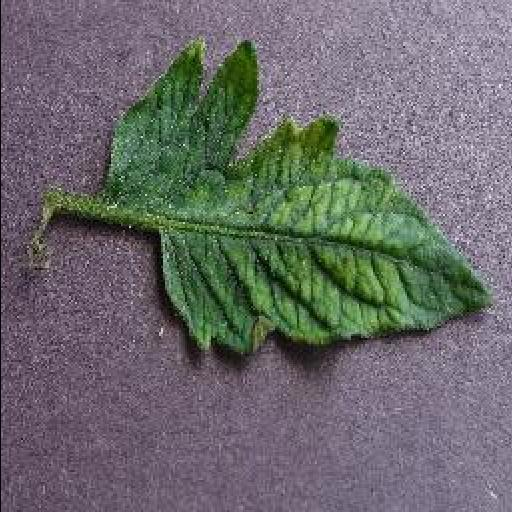disease_tomato: (105, 40, 495, 358)
